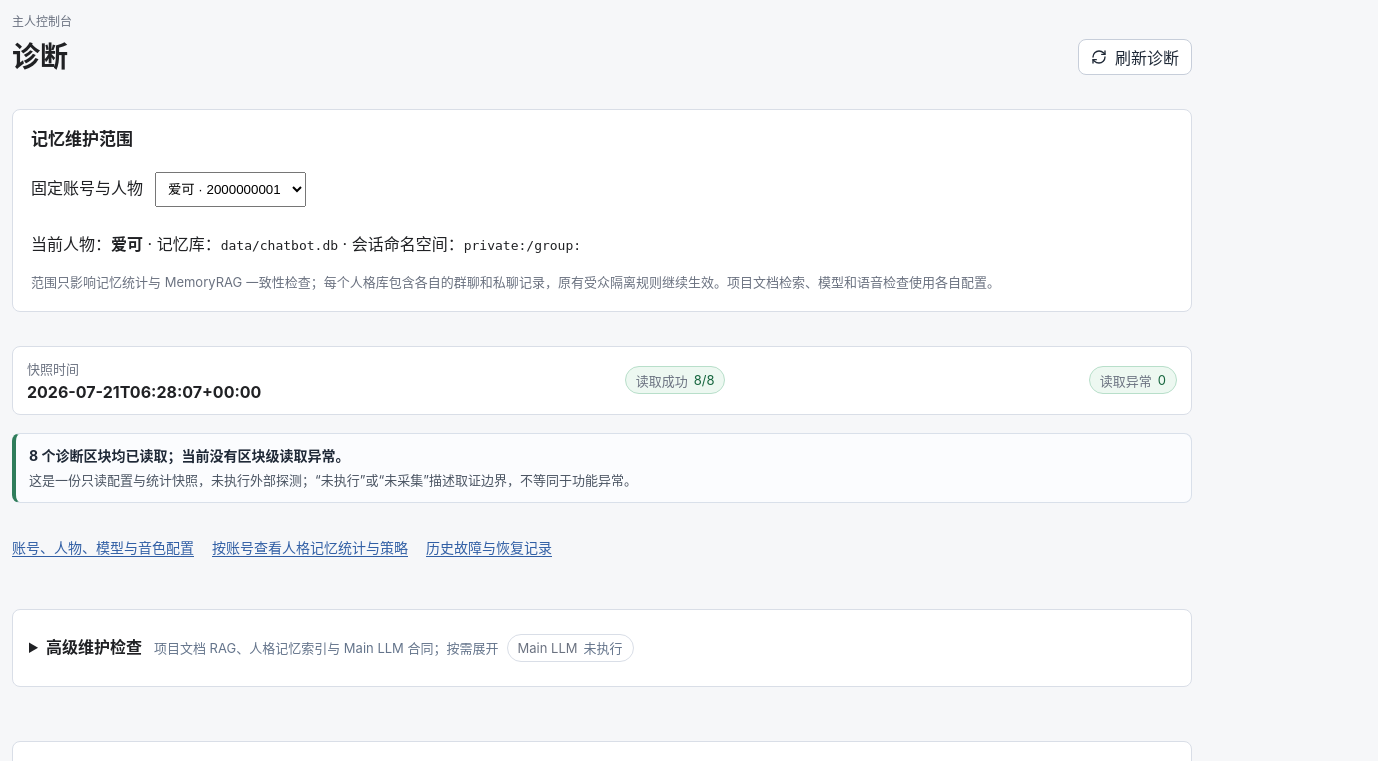
it: DiagnosticsPage › runs one fixed Main LLM question without exposing prompt or tool selection
The width and height of the screenshot is (1378, 761).
Click the heading that starts with "高级维护检查" at (340, 648), box [46,634,634,662]
(page scrolled)
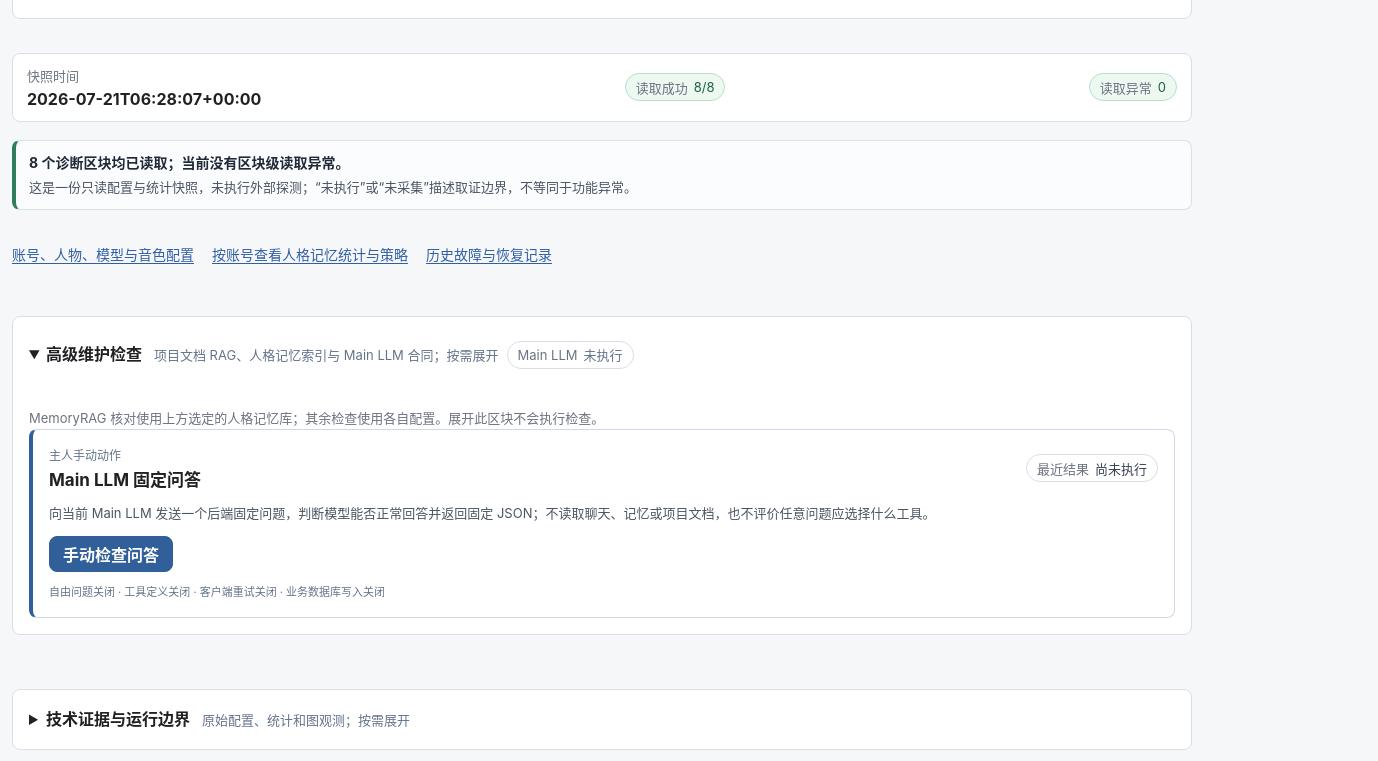
Click the button "手动检查问答" at (111, 554), box [49,536,173,572]
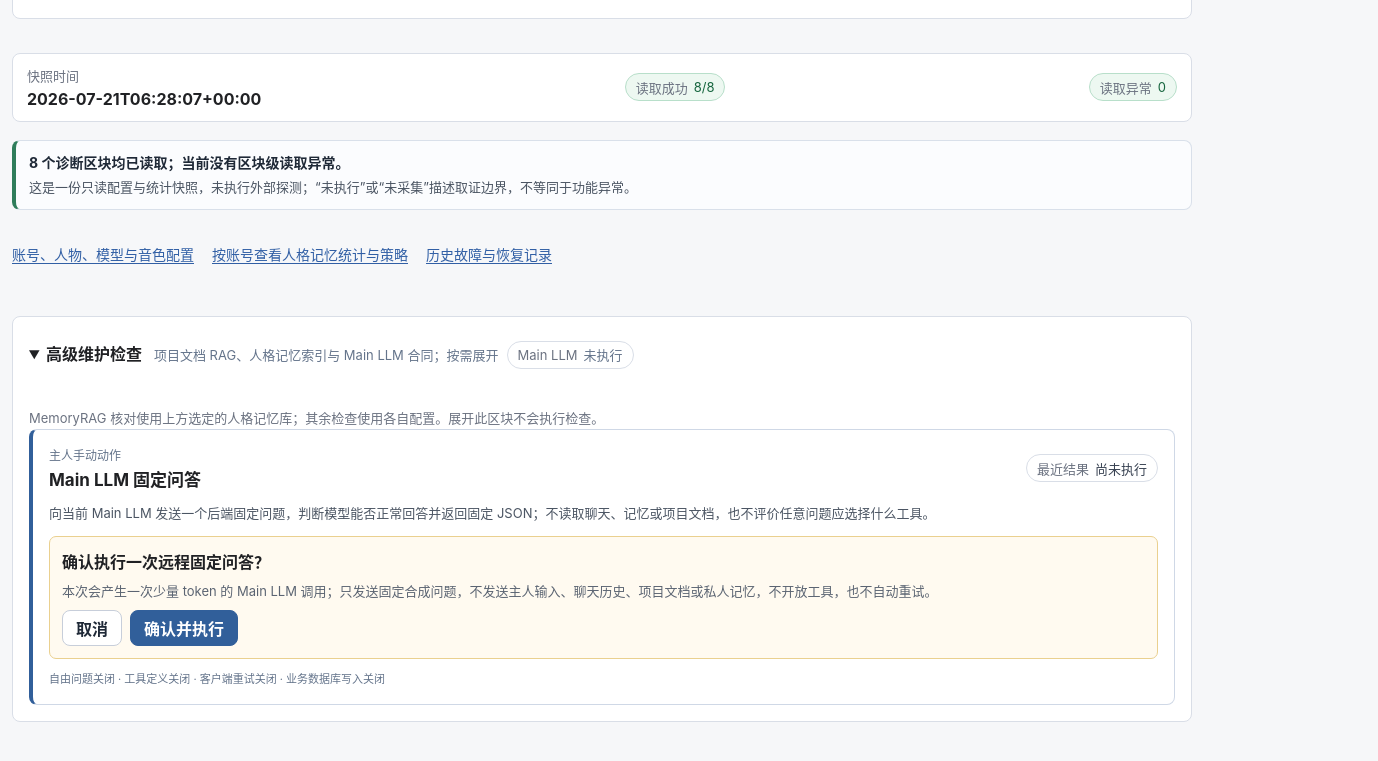
Check: the text "不评价任意问题应选择什么工具" is shown, box [49,505,936,521]
Check: the text "确认执行一次远程固定问答？" is shown, box [62,552,270,572]
Click the button "确认并执行" at (184, 628), box [130,610,238,646]
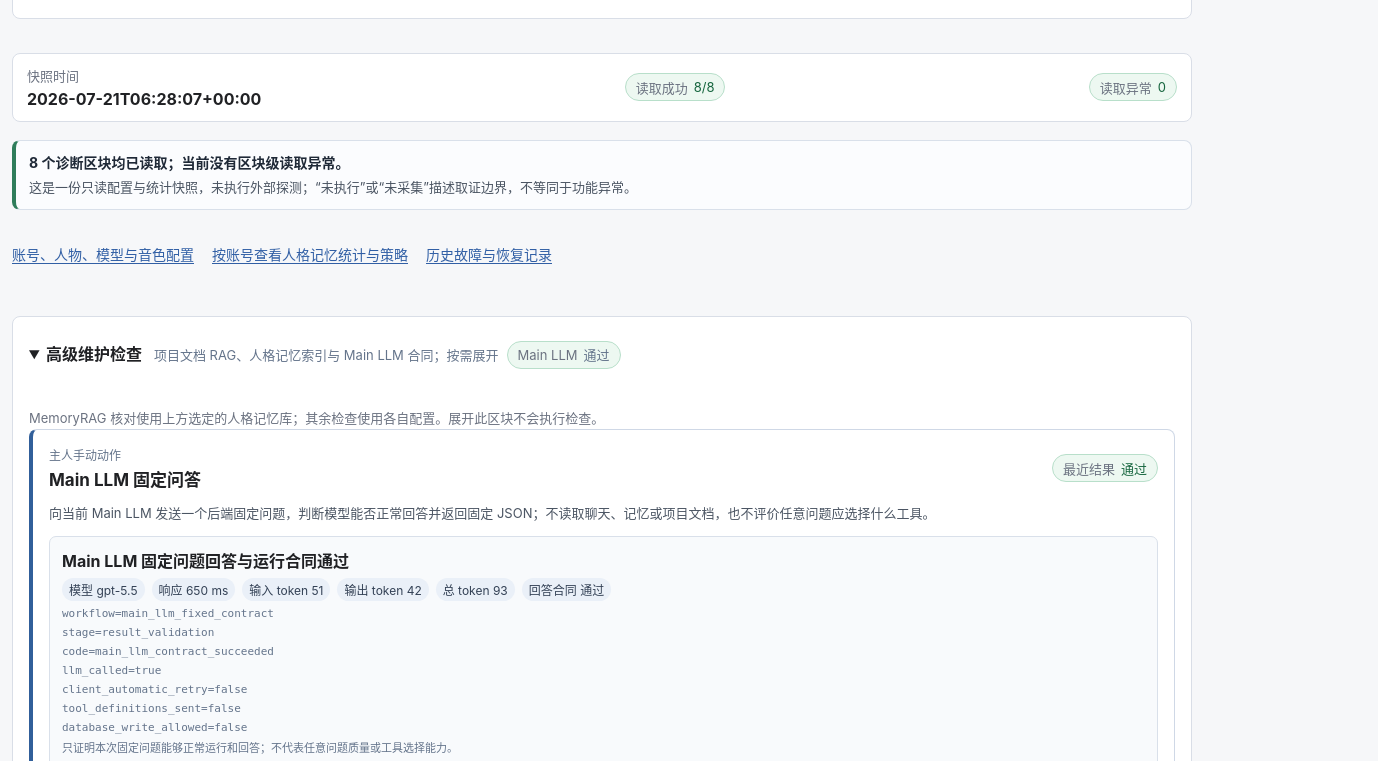
Check: the text "Main LLM 固定问题回答与运行合同通过" is shown, box [62,551,349,571]
Check: the text "模型 gpt-5.5" is shown, box [62,578,144,601]
Check: the text "响应 650 ms" is shown, box [152,578,235,601]
